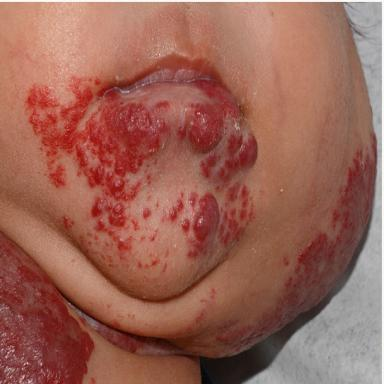Hemangiome: (27, 77, 167, 249), (0, 233, 95, 383), (216, 128, 257, 179), (188, 193, 220, 256), (189, 103, 223, 152), (97, 323, 137, 352), (298, 233, 327, 264), (200, 152, 217, 177), (188, 192, 197, 207), (169, 207, 177, 221), (182, 218, 190, 231), (177, 199, 184, 211)
